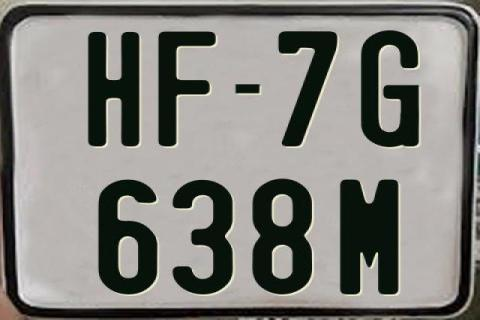0: (252, 178, 314, 298), (171, 178, 234, 294), (275, 29, 334, 149), (97, 178, 156, 296)
F: (157, 30, 218, 148)
G: (362, 28, 422, 146)
H: (87, 32, 144, 147)
M: (339, 179, 401, 295)
